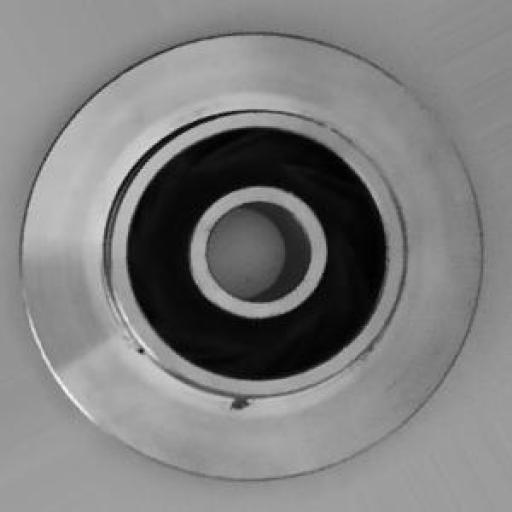defect: (104, 326, 295, 428)
